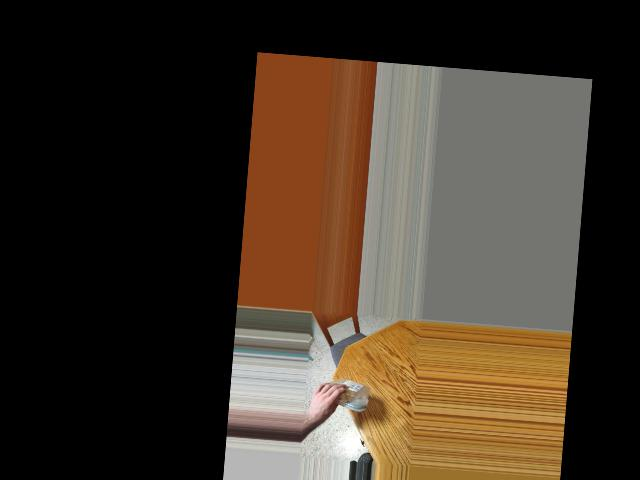cheese: (315, 375, 361, 415)
